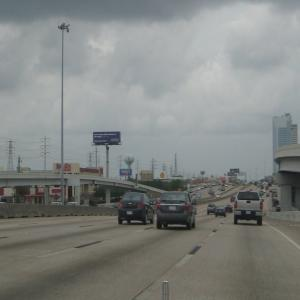Vehicle-registration-plate: (171, 207, 178, 212), (128, 211, 133, 215), (247, 211, 251, 215)
